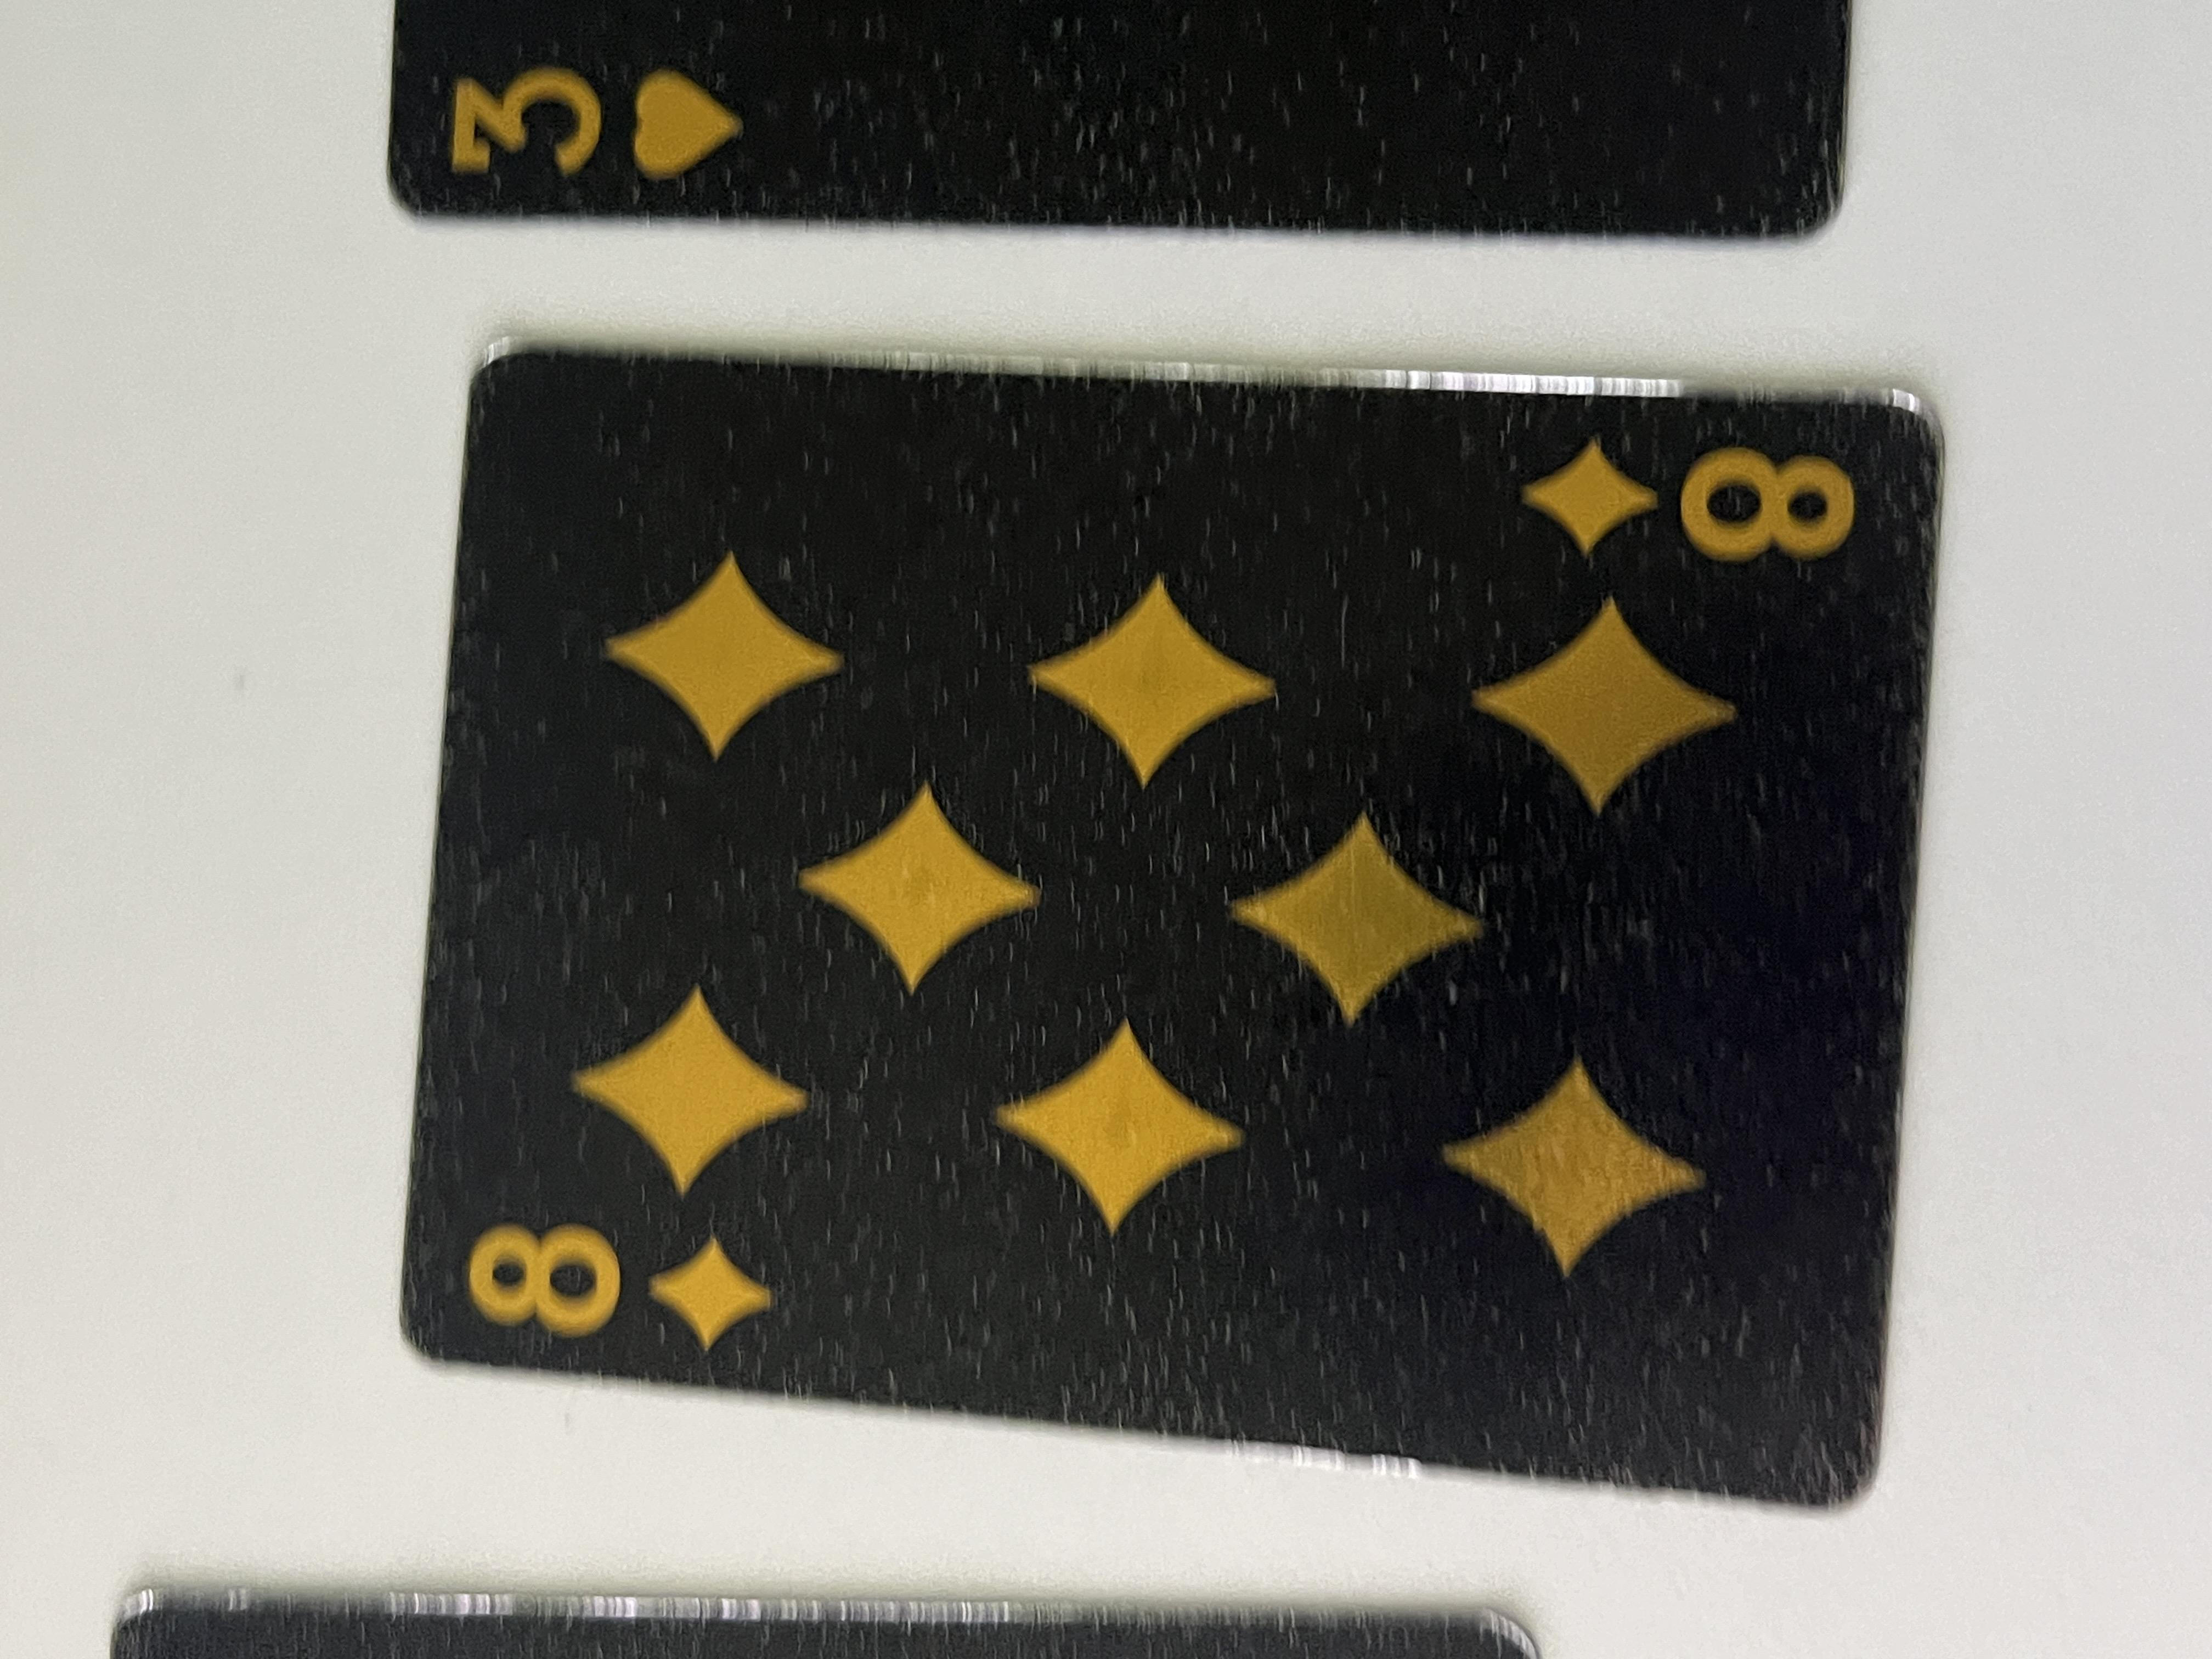3H: (1946, 319, 2165, 582)
8D: (1460, 1129, 1642, 1408), (399, 329, 596, 586)
